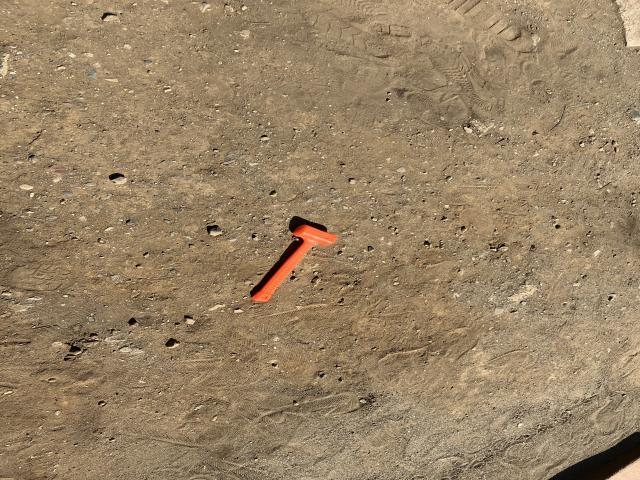hammer: (253, 223, 336, 303)
